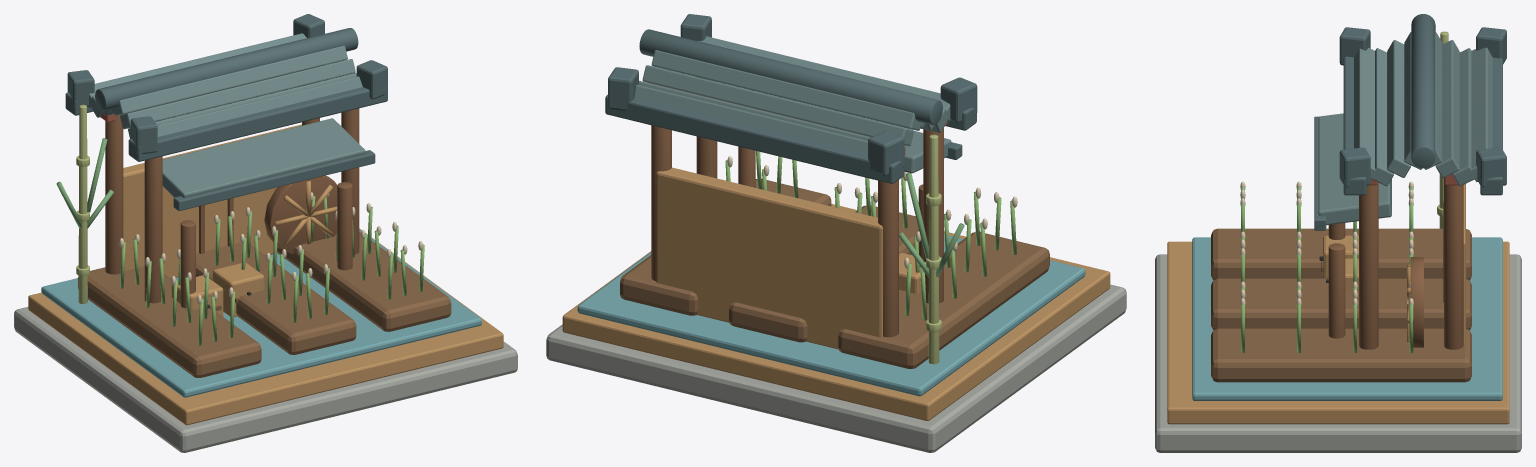
The model's file is building_farm_open.glb.
The picture shows the model from 3 angles, left to right: view 1: azimuth 30°, elevation 25°; view 2: azimuth 150°, elevation 25°; view 3: azimuth 270°, elevation 25°; orthographic projection. The views are drawn at different scales.
Visible parts, largest first — view 1: Foundation.001, RaisedFloor.001, IrrigationPool, PaddyRidge, VerandaCanopy.001, PaddyRidge.002, PaddyRidge.001, FarmHouseWall, EaveBeam.002, RoofRidge.001, WaterWheel, TimberPost.005 (+12 smaller); view 2: FarmHouseWall, Foundation.001, RaisedFloor.001, IrrigationPool, PaddyRidge, EaveBeam.003, RoofRidge.001, PaddyRidge.002, TimberPost.005, PaddyRidge.001, BambooStem.001, TimberPost.004 (+9 smaller); view 3: Foundation.001, RaisedFloor.001, IrrigationPool, PaddyRidge.002, PaddyRidge.001, PaddyRidge, RoofRidge.001, VerandaCanopy.001, TimberPost.007, TimberPost.006, VerandaPost.003, EaveBeam.002 (+13 smaller).
Boxes of the visible parts, <box> form: Foundation.001: <box>14,307,517,452</box>; RaisedFloor.001: <box>28,228,503,425</box>; IrrigationPool: <box>41,229,481,397</box>; PaddyRidge: <box>78,266,261,377</box>; VerandaCanopy.001: <box>162,118,365,197</box>; PaddyRidge.002: <box>277,232,451,331</box>; PaddyRidge.001: <box>196,242,356,354</box>; FarmHouseWall: <box>123,124,301,278</box>; EaveBeam.002: <box>128,86,387,161</box>; RoofRidge.001: <box>95,28,358,110</box>; WaterWheel: <box>264,175,337,254</box>; TimberPost.005: <box>105,115,123,274</box>; FarmHouseWall: <box>656,167,882,349</box>; Foundation.001: <box>546,284,1126,452</box>; RaisedFloor.001: <box>562,204,1110,420</box>; IrrigationPool: <box>577,234,1085,396</box>; PaddyRidge: <box>838,232,1049,368</box>; EaveBeam.003: <box>605,94,904,183</box>; RoofRidge.001: <box>639,29,942,124</box>; PaddyRidge.002: <box>620,178,831,315</box>; TimberPost.005: <box>878,180,898,337</box>; PaddyRidge.001: <box>729,205,918,342</box>; BambooStem.001: <box>928,134,939,364</box>; TimberPost.004: <box>923,127,943,303</box>; Foundation.001: <box>1155,254,1521,452</box>; RaisedFloor.001: <box>1167,241,1509,424</box>; IrrigationPool: <box>1192,237,1502,400</box>; PaddyRidge.002: <box>1211,328,1471,382</box>; PaddyRidge.001: <box>1211,278,1471,330</box>; PaddyRidge: <box>1211,228,1471,280</box>; RoofRidge.001: <box>1411,14,1435,168</box>; VerandaCanopy.001: <box>1318,113,1391,225</box>; TimberPost.007: <box>1444,177,1463,349</box>; TimberPost.006: <box>1359,182,1378,349</box>; VerandaPost.003: <box>1328,243,1345,338</box>; EaveBeam.002: <box>1343,56,1366,195</box>.
Size of the model in its own units: 2.78 by 2.08 by 2.42.
